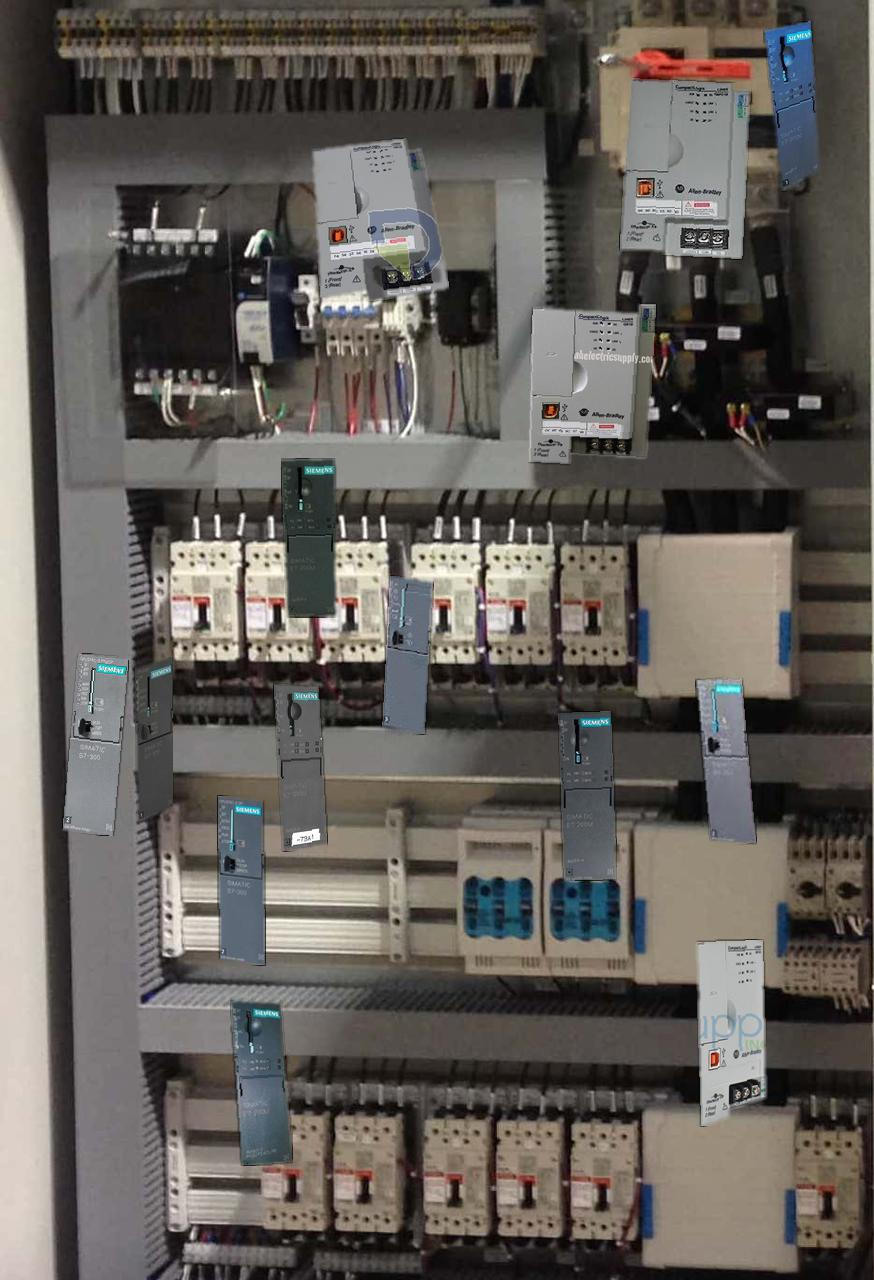AllenBradley: (620, 79, 749, 258), (313, 138, 448, 300), (528, 304, 655, 463), (697, 940, 765, 1125)
Siemens: (63, 653, 127, 835), (696, 679, 755, 842), (382, 576, 432, 733), (218, 796, 264, 964), (135, 657, 172, 822)
